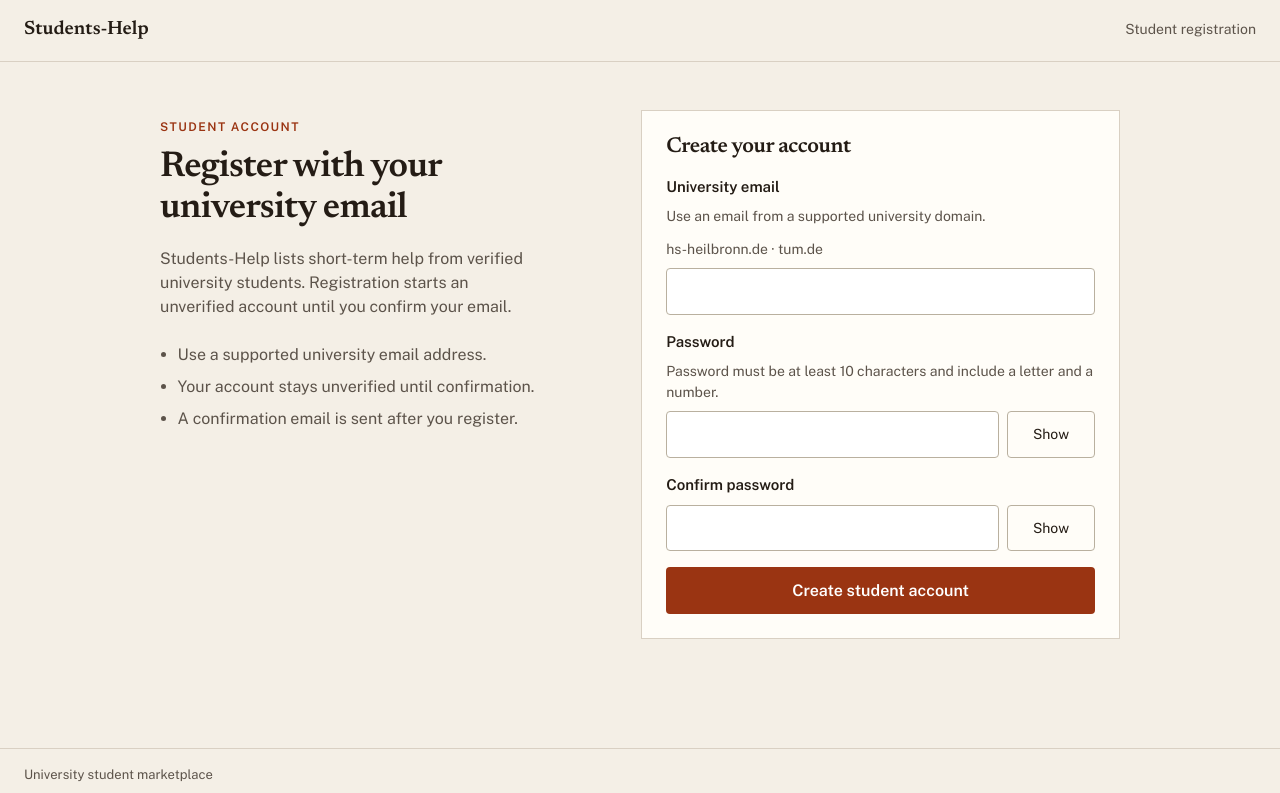
Scenario: Student registration › validates required fields
Click the button "Create student account".
click(881, 591)  # box [666, 568, 1095, 614]
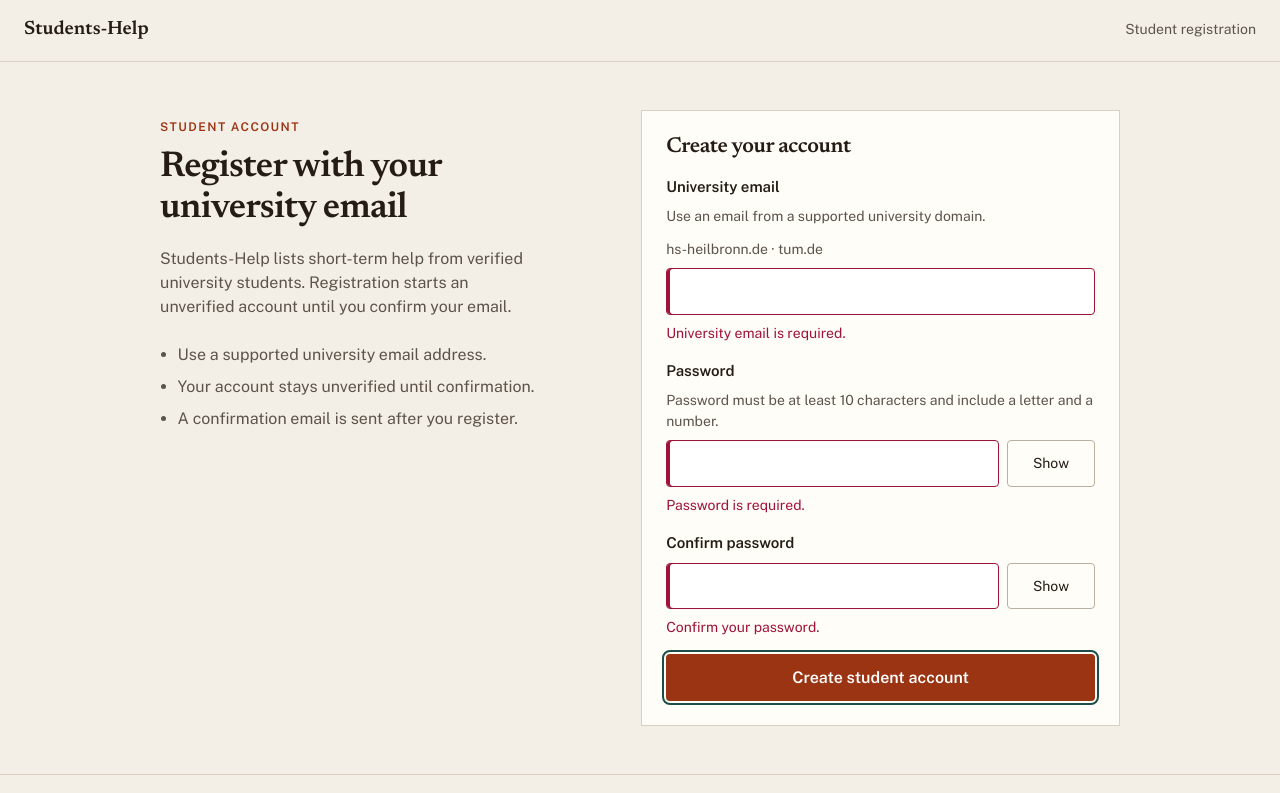
Now the text "University email is required." is shown, box [666, 325, 846, 341]
Now the text "Password is required." is shown, box [666, 497, 805, 513]
Now the text "Confirm your password." is shown, box [666, 620, 819, 636]
